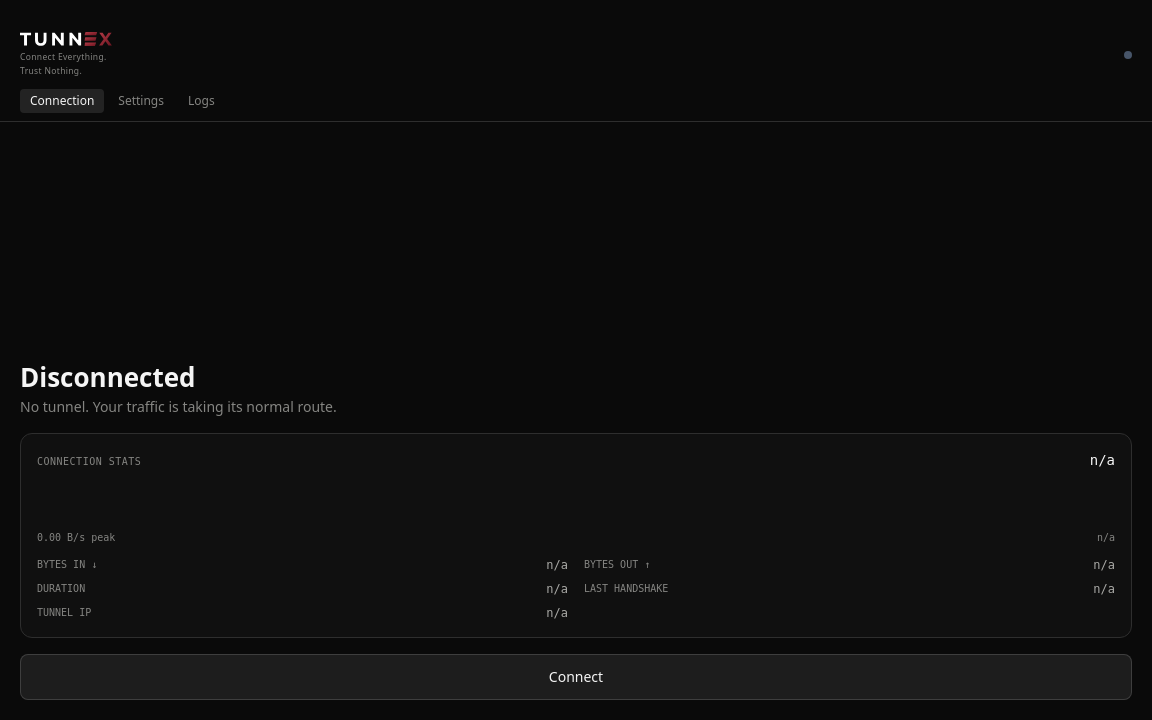
Scenario: the client asks the SESSION, not only the tunnel › ⛔ a not_authenticated rejection becomes a STATE — the exact error that reached the log
Check: the heading reads "Disconnected", box [20,358,196,394]
Click the button "Connect" at (576, 677), box [20,654,1132,700]
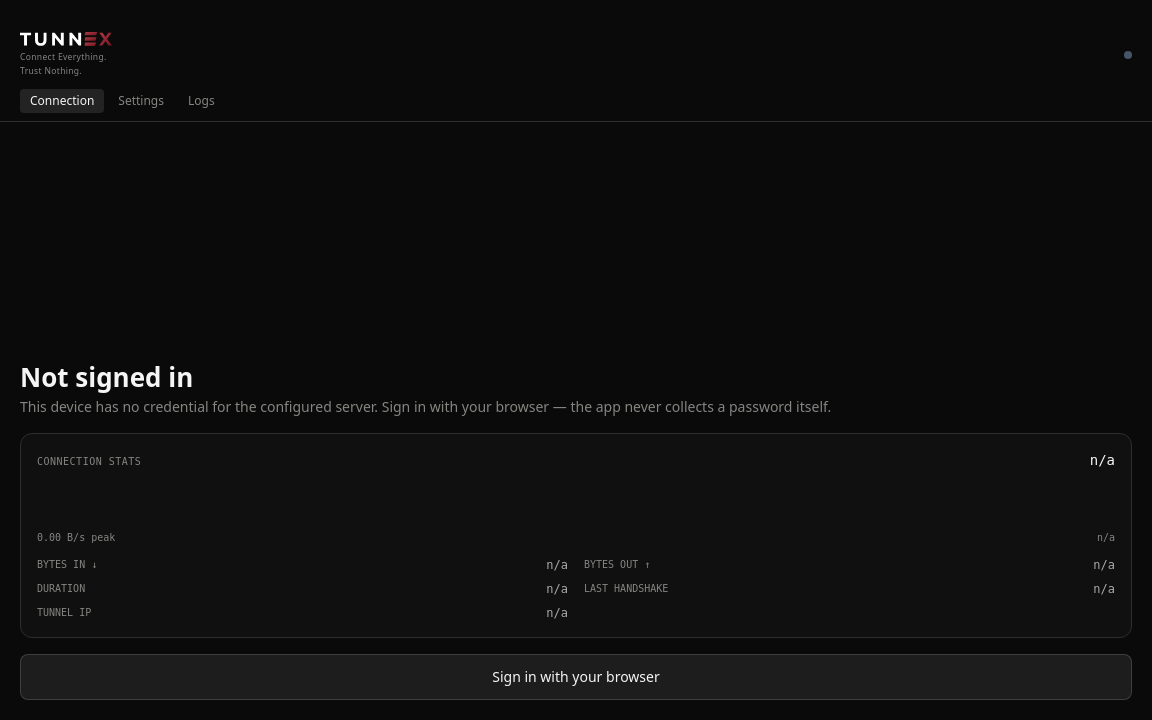
Check: the heading reads "Not signed in", box [20,358,193,394]
